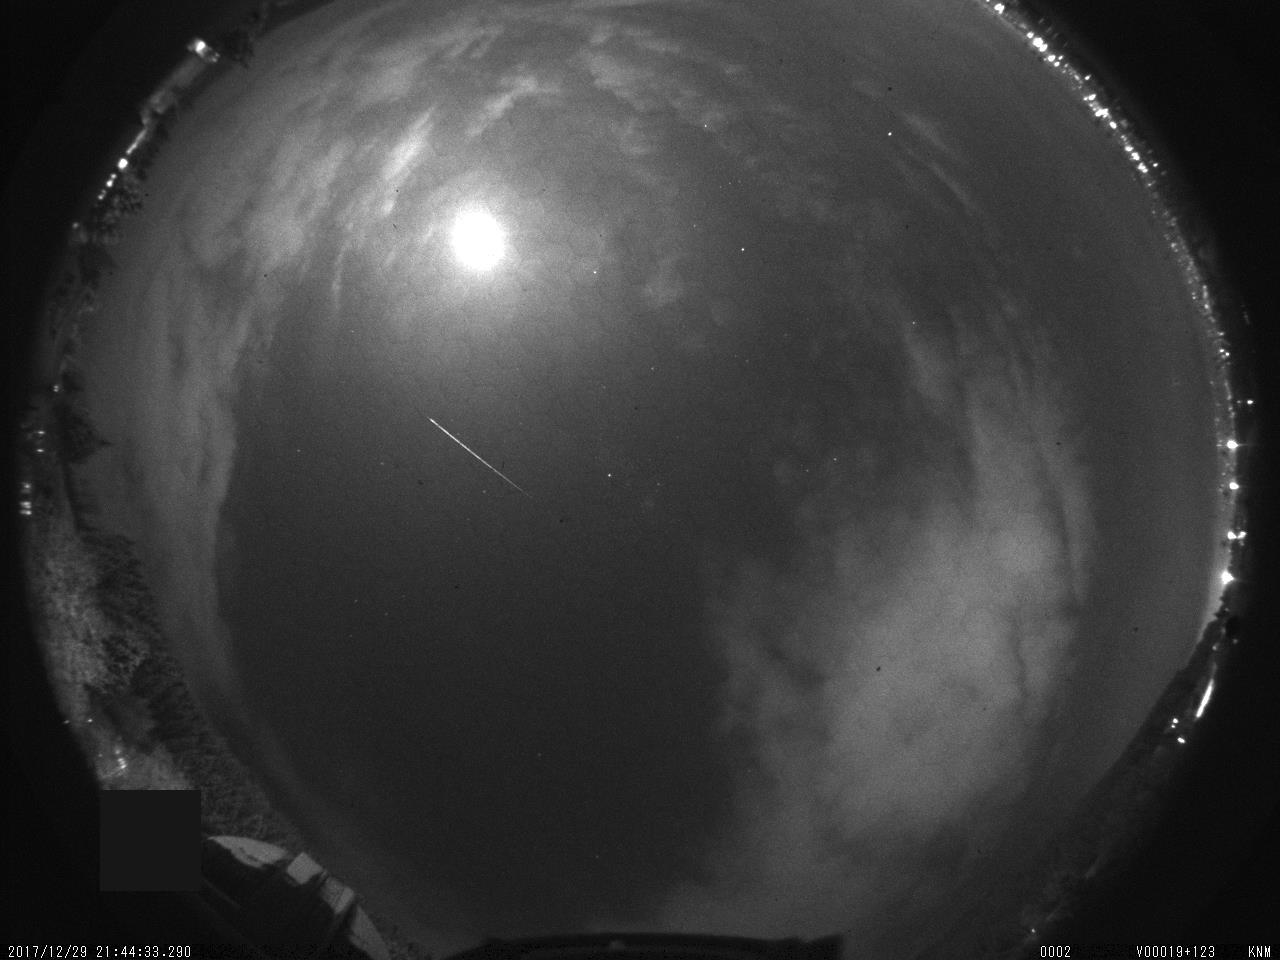meteor: (413, 397, 560, 514)
